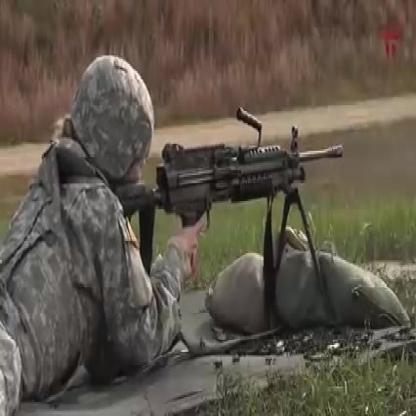Gun: (114, 89, 352, 368)
